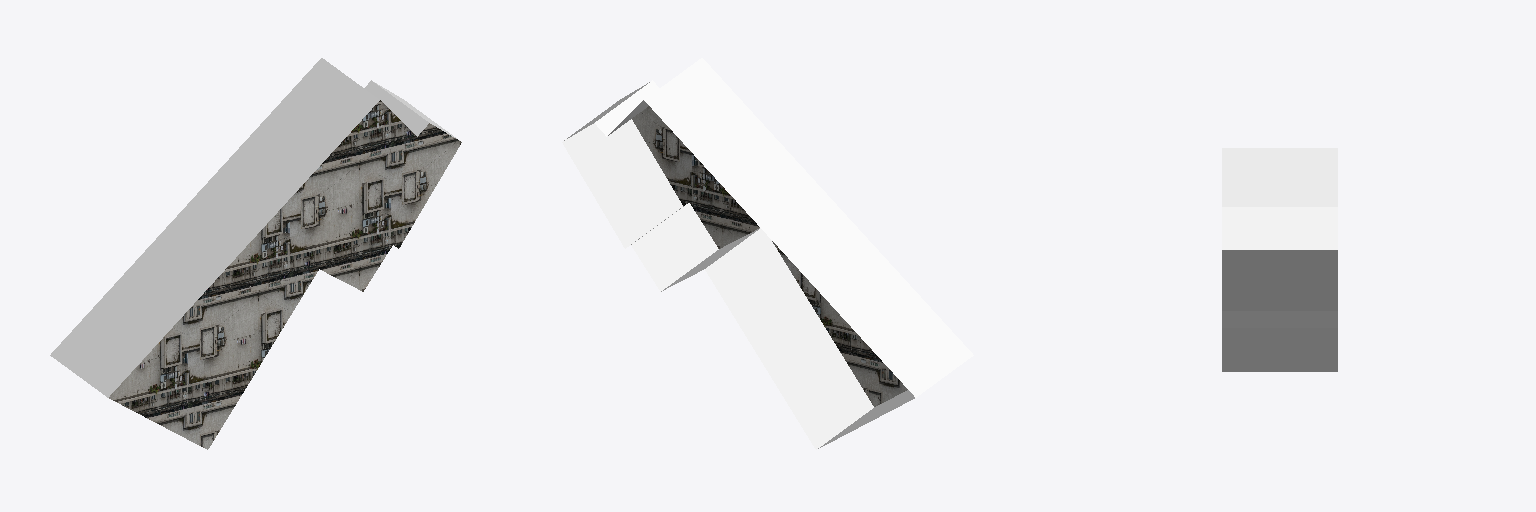
The picture shows the model from 3 angles: view 1: azimuth 30°, elevation 25°; view 2: azimuth 150°, elevation 25°; view 3: azimuth 270°, elevation 25°; orthographic projection.
Parts seen in each view (by area): view 1: Building; view 2: Building; view 3: Building.
Boxes of the visible parts, x1=… form: Building: x1=50, y1=58, x2=461, y2=449; Building: x1=562, y1=58, x2=973, y2=449; Building: x1=1222, y1=148, x2=1337, y2=371.
Bounding box in the file's own units: 31.51 × 26.21 × 9.
Materials: 2 (1 with a texture image).